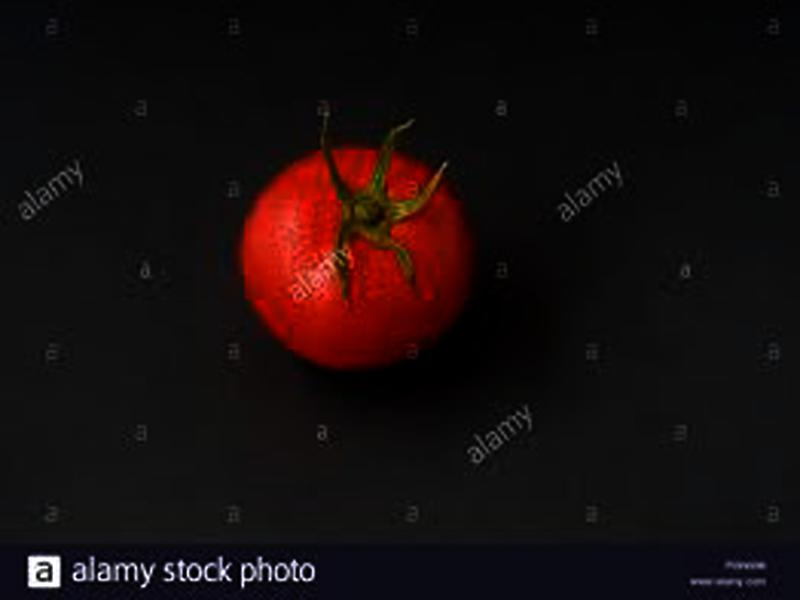Tomato: (238, 144, 476, 362)
